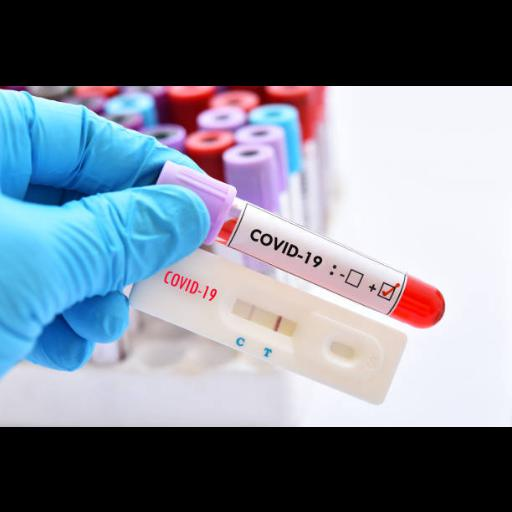Pos: (129, 232, 410, 409)
